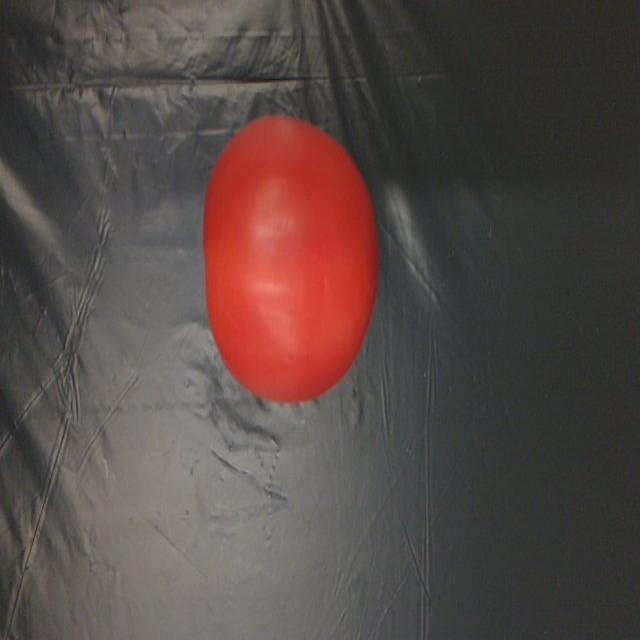kirmizi: (207, 114, 387, 421)
